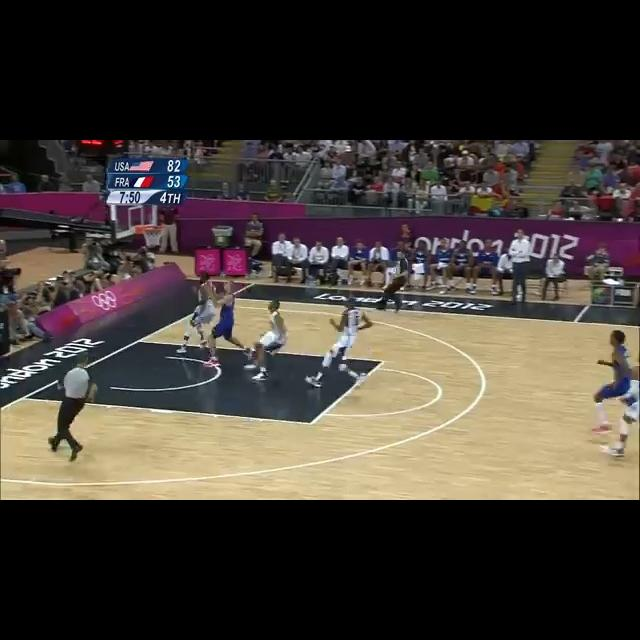hoop: (142, 223, 165, 248)
